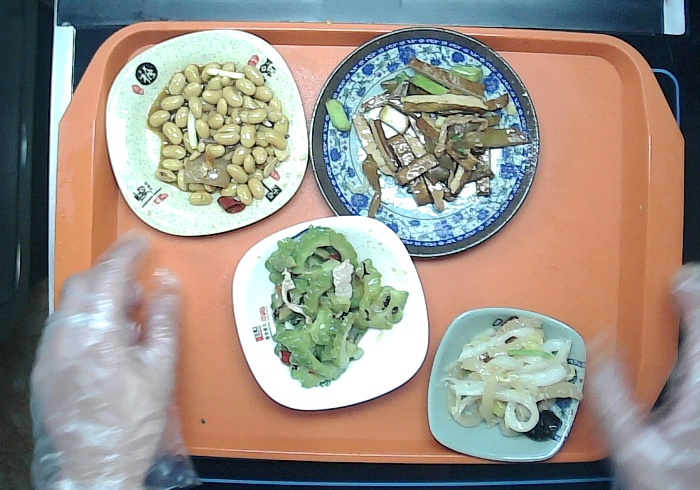NLDX-Bai_Se_Xiao_Fang_Die: (228, 211, 432, 415)
NLDX-Fu_Zi_Fang_Die: (101, 25, 313, 239)
NLDX-Qing_Hua_Xiao_Fang_Die: (422, 303, 591, 465)
NLDX-Qing_Hua_Yuan_Die: (303, 22, 543, 265)
